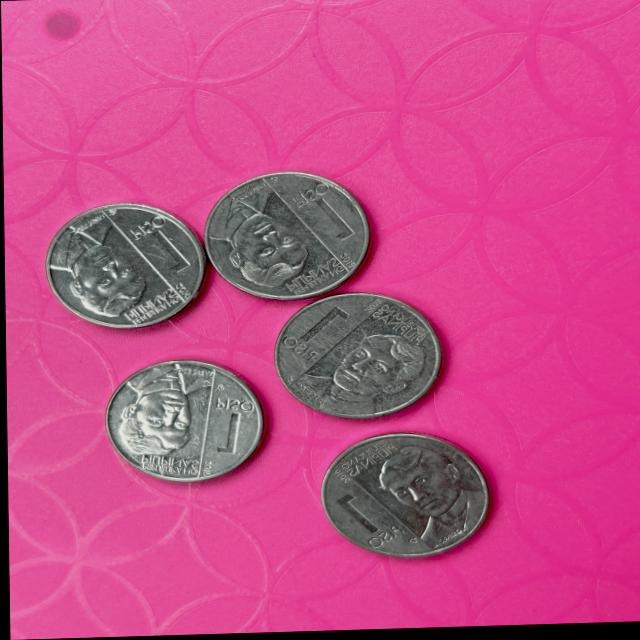1_New_Front: (290, 297, 357, 368), (340, 488, 402, 553), (138, 211, 194, 274), (307, 182, 352, 245), (213, 386, 246, 463)
